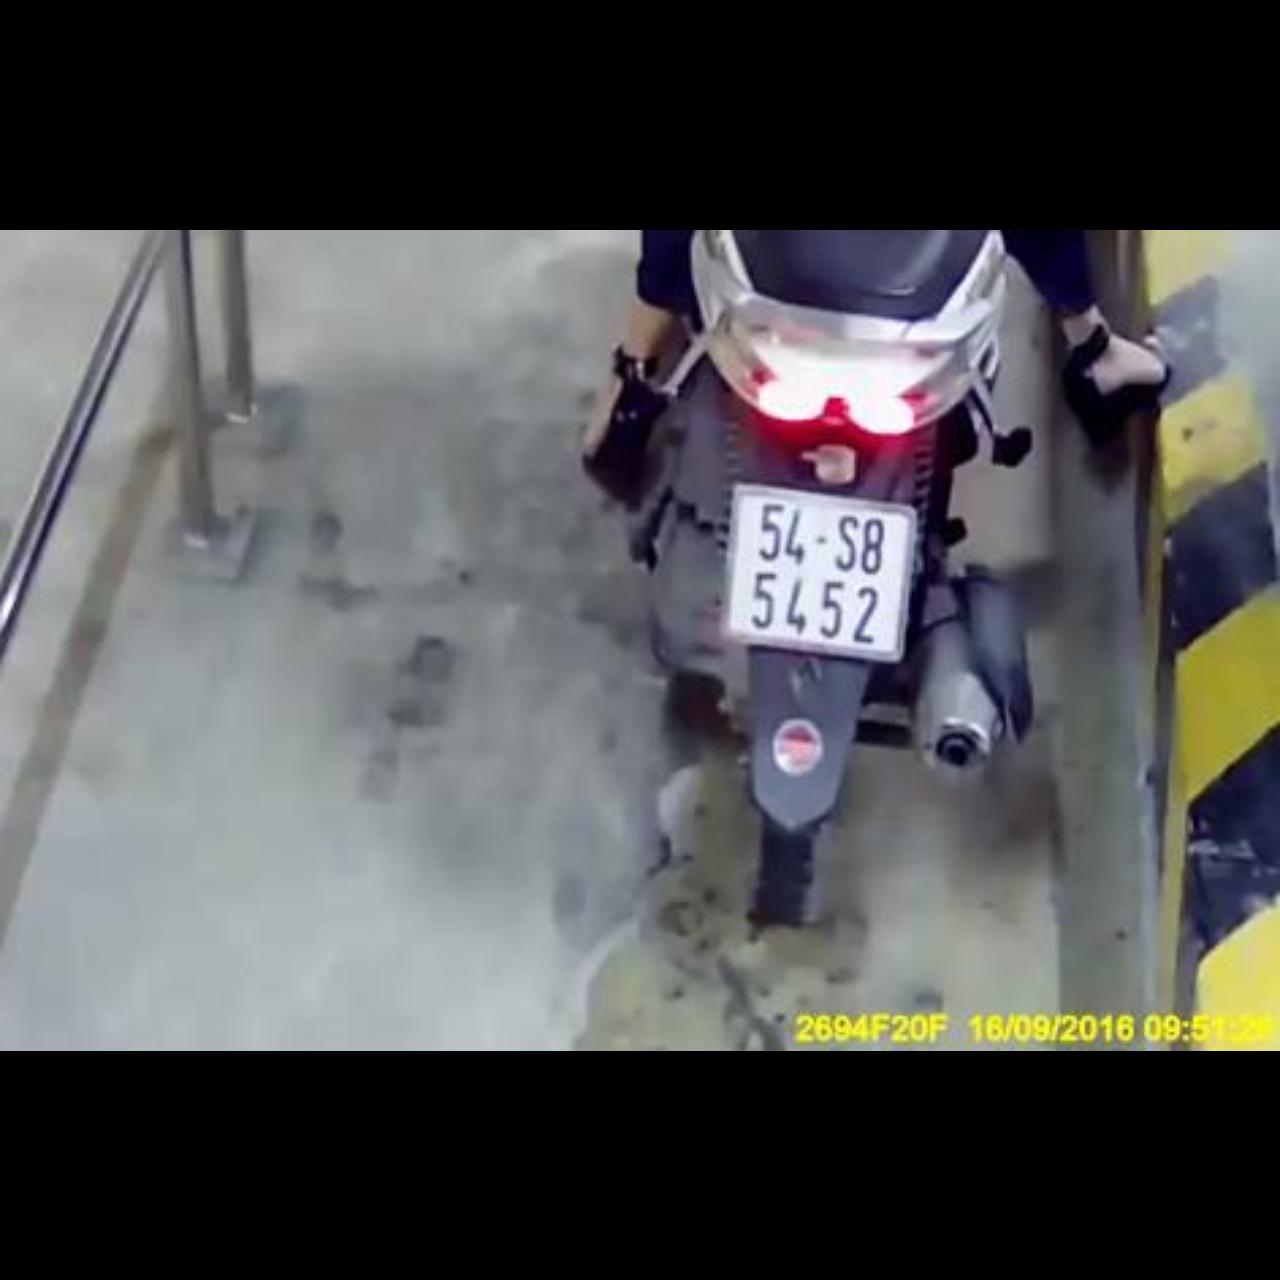bienso: (720, 478, 916, 666)
